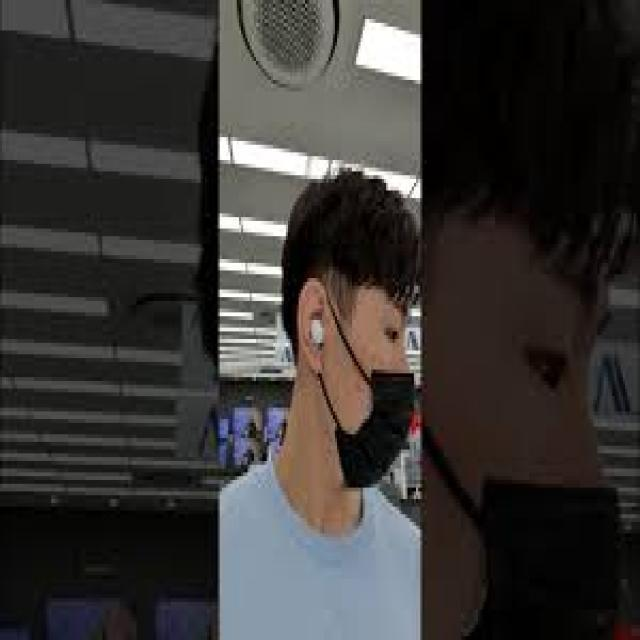earphone: (312, 293, 326, 370)
